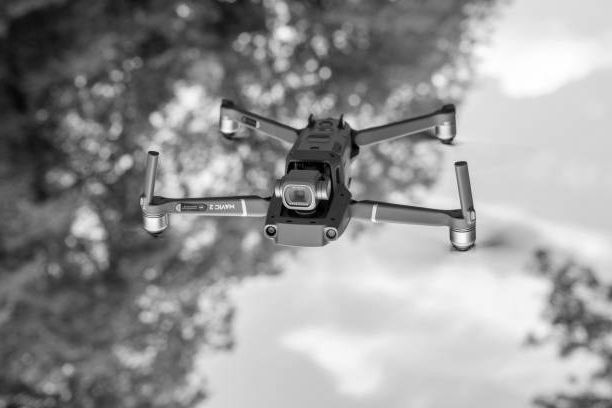Drone: (116, 97, 493, 257)
